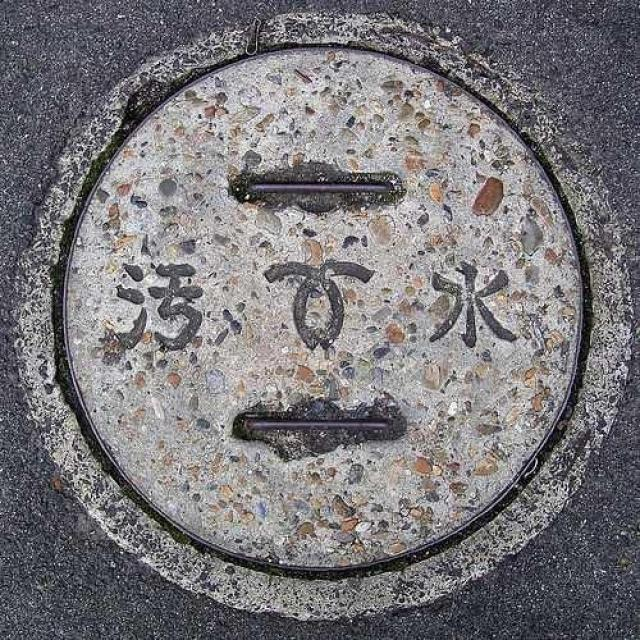manhole: (55, 16, 585, 575)
